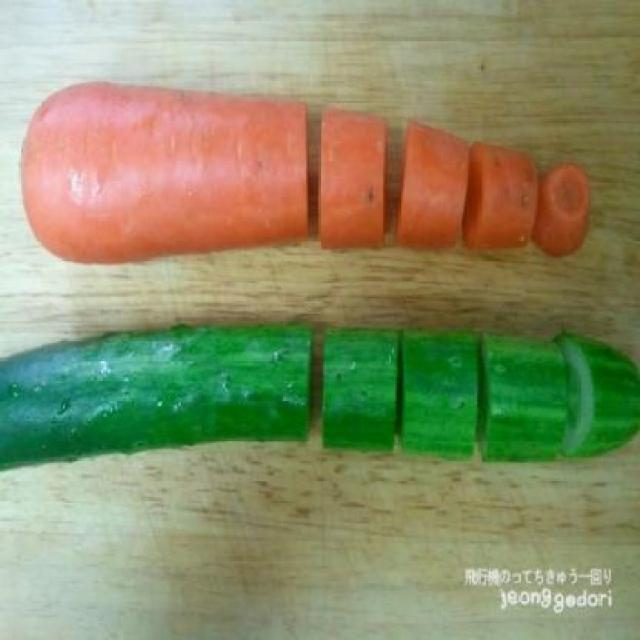carrot: (20, 83, 309, 265)
